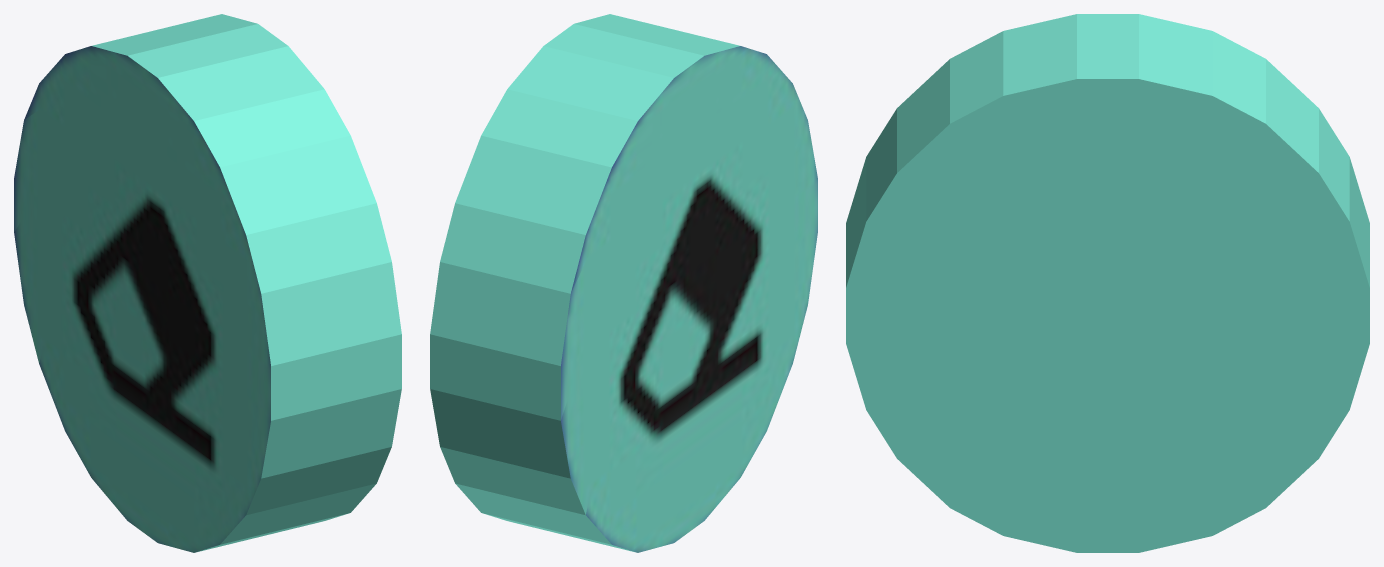
The model's file is EraseButton.glb.
3 renders of one model, left to right at view 1: azimuth 30°, elevation 25°; view 2: azimuth 150°, elevation 25°; view 3: azimuth 270°, elevation 25°, orthographic.
Parts seen in each view (by area): view 1: EraseButton; view 2: EraseButton; view 3: EraseButton.
Boxes of the visible parts, x1=… form: EraseButton: x1=14, y1=14, x2=401, y2=552; EraseButton: x1=430, y1=14, x2=817, y2=552; EraseButton: x1=846, y1=14, x2=1369, y2=552.
Size of the model in its own units: 0.1513 by 0.5143 by 0.5152.
Materials: 1 (1 with a texture image).
